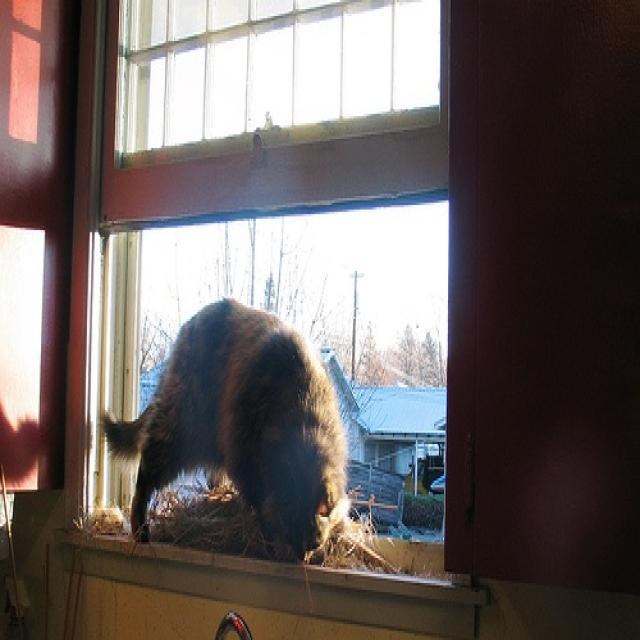cat: (100, 294, 349, 565)
